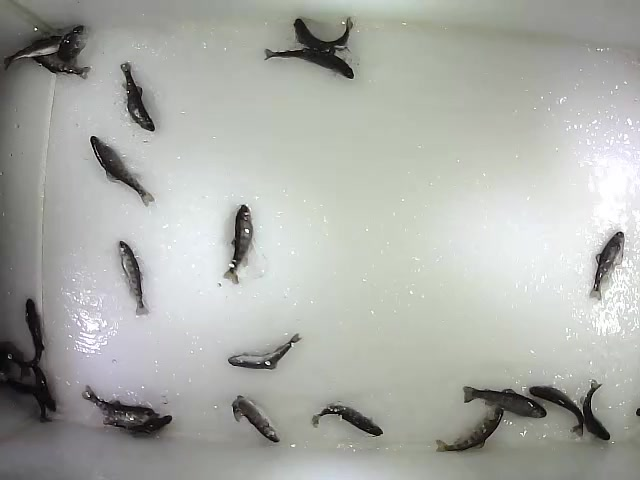fish: (89, 135, 155, 208), (262, 46, 357, 81), (433, 407, 505, 453), (528, 383, 586, 440), (219, 203, 256, 286), (461, 385, 548, 420), (81, 384, 161, 422), (227, 332, 303, 371), (309, 401, 385, 439), (118, 61, 157, 134), (588, 230, 626, 303), (116, 239, 151, 317), (231, 394, 282, 444), (291, 16, 354, 53), (582, 379, 612, 442), (21, 298, 47, 368), (101, 414, 174, 438)
